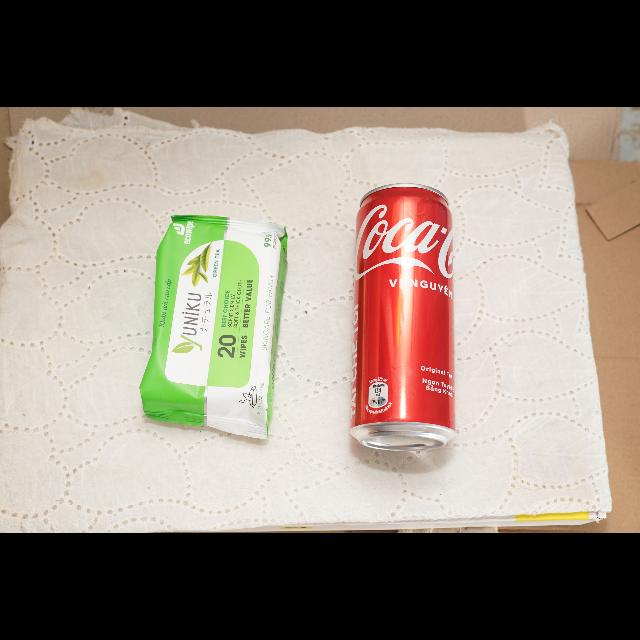coca_cola: (351, 184, 455, 452)
khan_giay: (140, 215, 286, 439)
